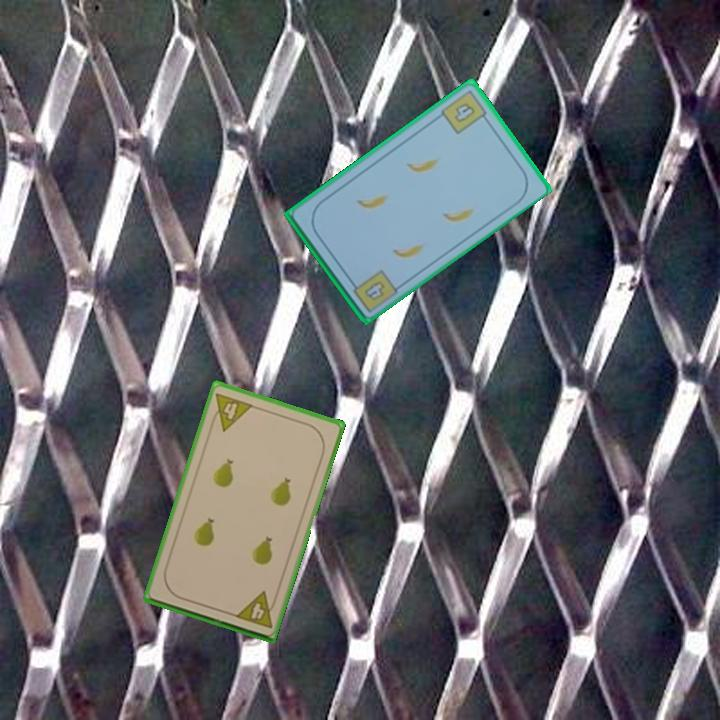4b: (437, 86, 492, 137), (361, 277, 388, 303)
4p: (206, 389, 256, 434), (231, 588, 280, 631)
